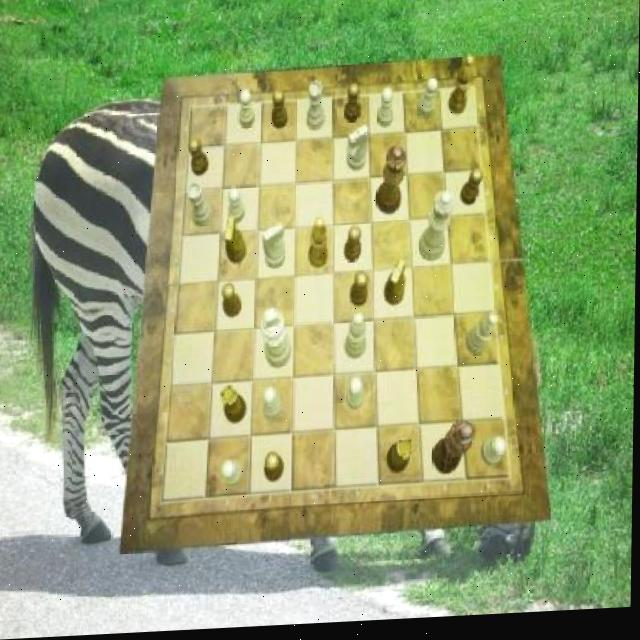bishop: (448, 60, 475, 120), (309, 220, 330, 272)
black-bishop: (433, 425, 476, 481)
black-king: (225, 219, 248, 267), (385, 263, 406, 309)
black-knight: (460, 172, 484, 211), (188, 139, 209, 179), (222, 285, 243, 321), (344, 88, 362, 128), (271, 93, 288, 133), (265, 454, 286, 486), (344, 230, 362, 266), (351, 274, 369, 309)
black-pawn: (376, 151, 407, 220)
black-queen: (221, 386, 247, 426), (387, 441, 415, 478)
black-rook: (466, 318, 499, 362), (344, 316, 367, 362)
white-bishop: (260, 311, 293, 372)
white-king: (263, 225, 286, 272), (346, 130, 369, 176)
white-knight: (417, 82, 437, 123), (482, 442, 507, 471), (263, 390, 283, 425), (239, 93, 256, 133), (378, 91, 394, 132), (347, 380, 365, 415), (228, 190, 245, 227), (222, 462, 245, 488)
white-pawn: (419, 195, 456, 266)
white-queen: (187, 183, 213, 230), (307, 84, 325, 135)
